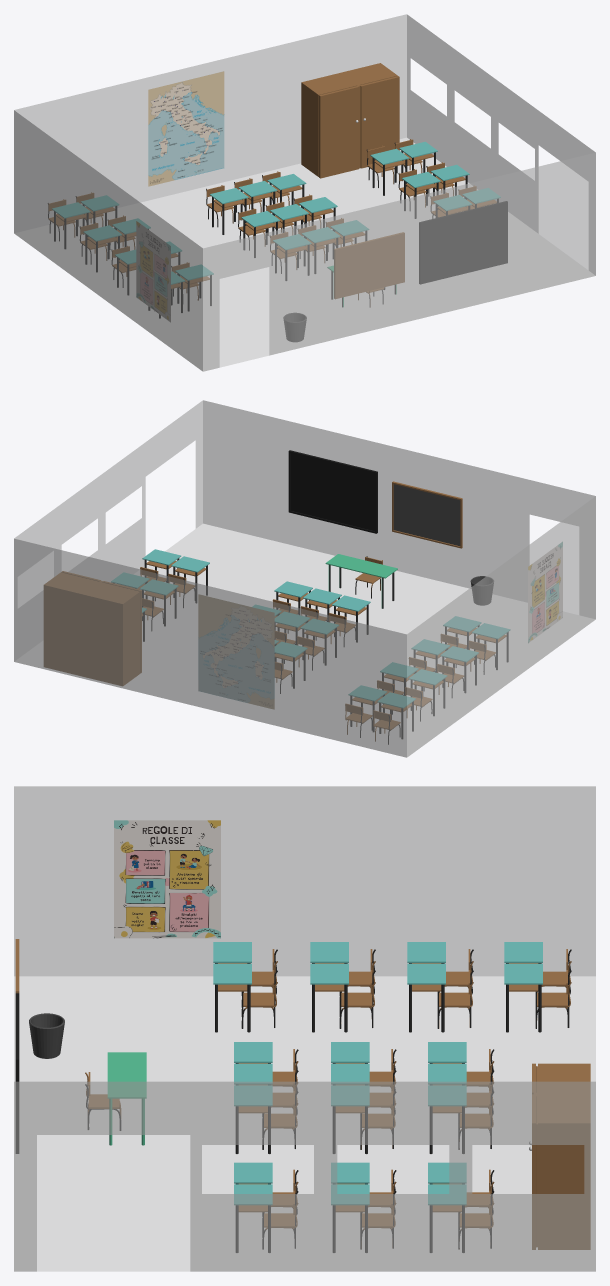
File: SettingAula_1E.glb
3 renders of one model, top to bottom at view 1: azimuth 30°, elevation 25°; view 2: azimuth 150°, elevation 25°; view 3: azimuth 270°, elevation 25°, orthographic. The views are drawn at different scales.
Parts seen in each view (by area): view 1: Walls, Cube.010, Plane, Cube.004, Cube.009, Cube, Cube.006, Cube.008, Plane.001, Cube.005, Cube.007, Cube.001 (+1 smaller); view 2: Walls, Cube.010, Plane, Cube.009, Cube, Cube.004, Cube.008, Plane.001, Cube.001, Cube.006, Cube.005, Cube.002 (+2 smaller); view 3: Walls, Plane.001, Cube.010, Cube.004, Cube, Cube.006, Cube.001, Cube.005, Cube.007, Cube.002, Cylinder, Cube.009.
Boxes of the visible parts, box(x1,y1,x2,y2) form: Walls: box(14, 14, 595, 371); Cube.010: box(301, 63, 399, 178); Plane: box(148, 71, 224, 186); Cube.004: box(209, 174, 368, 280); Cube.009: box(419, 201, 507, 284); Cube: box(52, 195, 213, 318); Cube.006: box(370, 141, 500, 218); Cube.008: box(334, 232, 404, 298); Plane.001: box(136, 221, 170, 322); Cube.005: box(206, 171, 353, 273); Cube.007: box(366, 139, 476, 218); Cube.001: box(48, 192, 198, 300); Walls: box(14, 400, 595, 757); Cube.010: box(44, 571, 141, 685); Plane: box(198, 594, 274, 709); Cube.009: box(288, 450, 377, 533); Cube: box(348, 616, 510, 739); Cube.004: box(252, 581, 370, 688); Cube.008: box(392, 481, 462, 548); Plane.001: box(528, 542, 562, 642); Cube.001: box(345, 634, 495, 744); Cube.006: box(111, 549, 209, 641); Cube.005: box(272, 599, 355, 693); Cube.002: box(325, 554, 397, 608); Walls: box(14, 786, 595, 1271); Plane.001: box(114, 820, 220, 938); Cube.010: box(532, 1063, 590, 1249); Cube.004: box(234, 1042, 466, 1153); Cube: box(213, 942, 542, 1032); Cube.006: box(234, 1162, 466, 1252); Cube.001: box(241, 949, 571, 1028); Cube.005: box(262, 1049, 494, 1149); Cube.007: box(262, 1169, 494, 1249); Cube.002: box(107, 1052, 146, 1145); Cylinder: box(29, 1013, 64, 1058); Cube.009: box(15, 993, 19, 1153).
Size of the model in its own units: 9 by 2.7 by 7.5.
11 materials, 2 textured.
